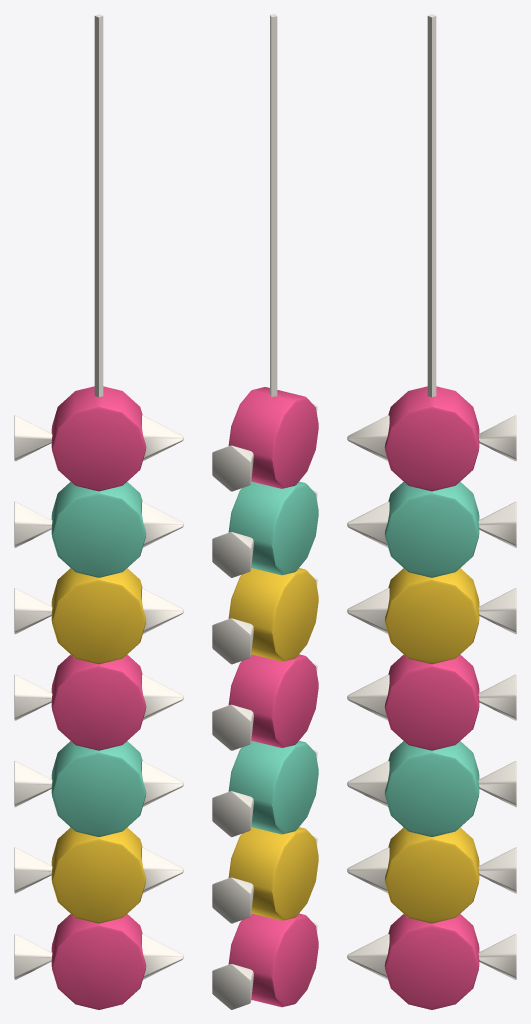
Rendered from HangCandy.fbx.
The picture shows the model from 3 angles, left to right: view 1: azimuth 90°, elevation 25°; view 2: azimuth 150°, elevation 25°; view 3: azimuth 270°, elevation 25°; orthographic projection.
Parts seen in each view (by area): view 1: HangCandy; view 2: HangCandy; view 3: HangCandy.
Part boxes in pixels (<box>): HangCandy: <box>14,14,183,1009</box>; HangCandy: <box>212,14,318,1009</box>; HangCandy: <box>347,14,516,1009</box>.
Bounding box in the file's own units: 50 × 1025 × 160.
